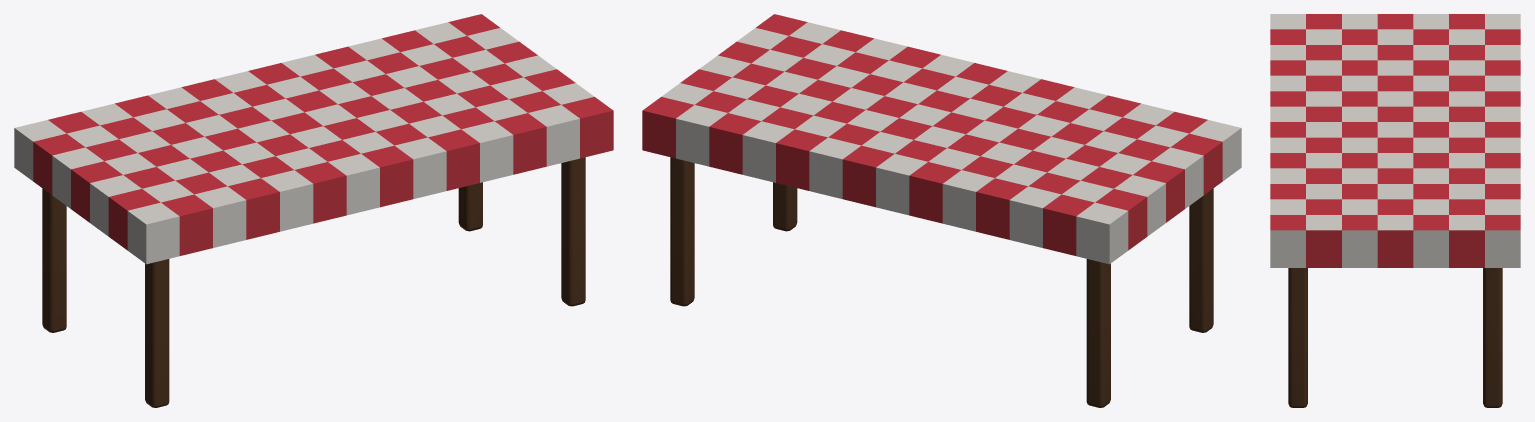
File: furn_dining_table.glb
3 views of the same model, side by side, from view 1: azimuth 30°, elevation 25°; view 2: azimuth 150°, elevation 25°; view 3: azimuth 270°, elevation 25° (orthographic). The views are drawn at different scales.
Parts seen in each view (by area): view 1: furn_dining_table_main; view 2: furn_dining_table_main; view 3: furn_dining_table_main.
Part boxes in pixels (left/top/right/bottom): furn_dining_table_main: left=14, top=14, right=613, bottom=407; furn_dining_table_main: left=642, top=14, right=1241, bottom=407; furn_dining_table_main: left=1270, top=14, right=1520, bottom=407.
Size of the model in its own units: 1.84 by 0.742 by 0.9.
